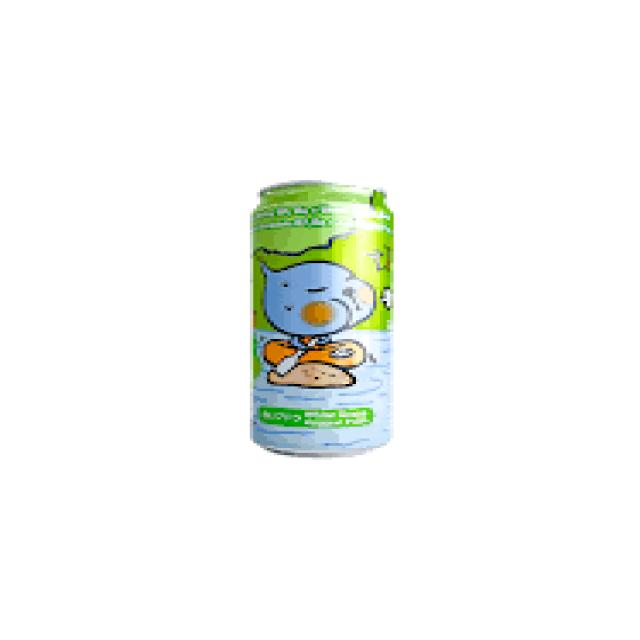Cans: (222, 171, 410, 462)
